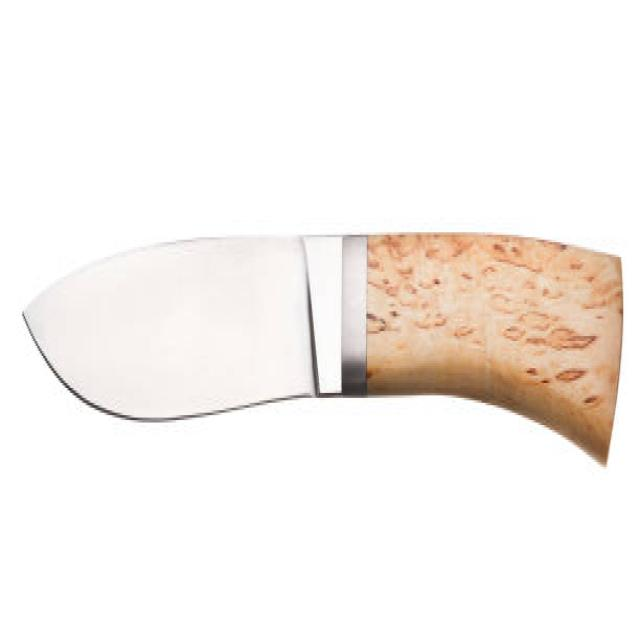knife: (6, 207, 628, 516)
